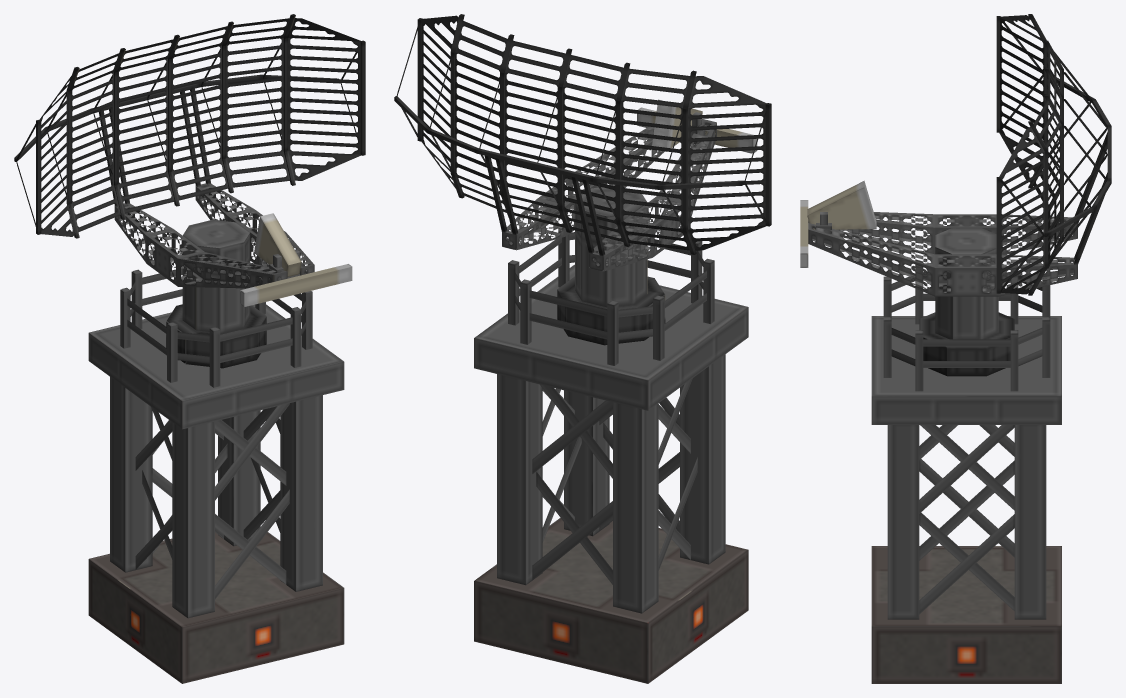
Rendered from radar_large.obj.
The picture shows the model from 3 angles, left to right: view 1: azimuth 30°, elevation 25°; view 2: azimuth 150°, elevation 25°; view 3: azimuth 270°, elevation 25°; orthographic projection. The views are drawn at different scales.
Visible parts, largest first — view 1: Radar, Dish; view 2: Radar, Dish; view 3: Radar, Dish.
Part boxes in pixels (left/top/right/bottom): Radar: left=88, top=256, right=344, bottom=683; Dish: left=14, top=14, right=365, bottom=332; Radar: left=474, top=223, right=748, bottom=683; Dish: left=394, top=14, right=771, bottom=307; Radar: left=871, top=263, right=1061, bottom=683; Dish: left=800, top=14, right=1111, bottom=339.
Bounding box in the file's own units: 6.06 × 10 × 4.91.
